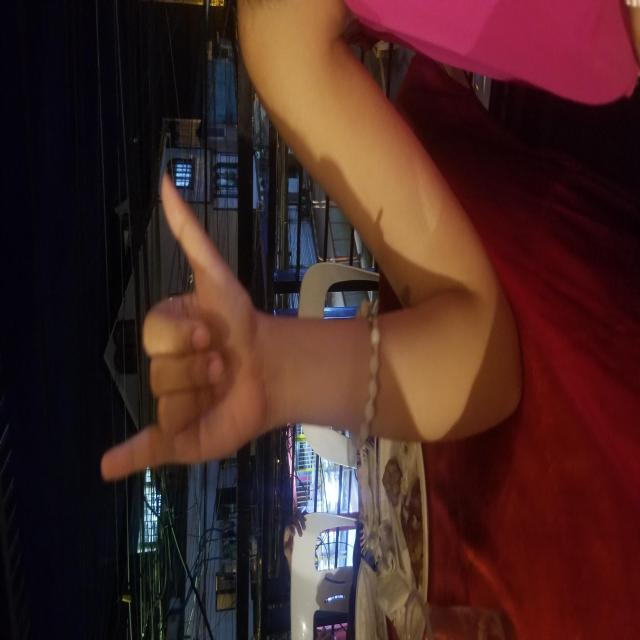Y: (156, 97, 467, 260)
